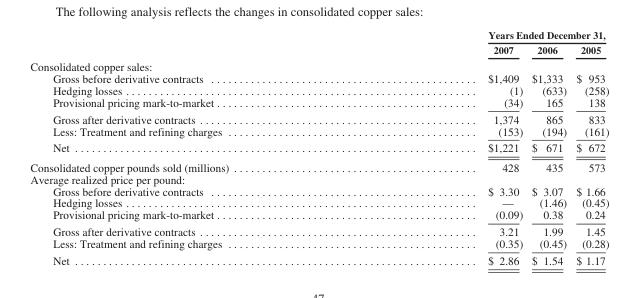table: (29, 28, 608, 266)
table column: (29, 28, 357, 266), (357, 28, 526, 266), (526, 28, 570, 266), (570, 28, 608, 266)
table column header: (29, 28, 608, 57)
table projected row header: (29, 57, 608, 72), (29, 172, 608, 184)
table row: (29, 139, 608, 157), (29, 42, 608, 57), (29, 57, 608, 72), (29, 95, 608, 110), (29, 124, 608, 139), (29, 157, 608, 172), (29, 222, 608, 237), (29, 251, 608, 266), (29, 28, 608, 42), (29, 110, 608, 124), (29, 208, 608, 222), (29, 237, 608, 251), (29, 72, 608, 84), (29, 172, 608, 184), (29, 184, 608, 196), (29, 196, 608, 208), (29, 84, 608, 95)
table spanning cell: (357, 28, 608, 42)
